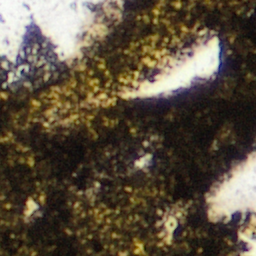cement_matrix: (0, 0, 255, 255), (119, 34, 221, 99), (161, 212, 178, 241), (91, 94, 110, 103), (136, 156, 148, 168), (26, 201, 36, 214)
gravel_crushed_stones: (0, 0, 122, 81), (120, 35, 220, 98), (208, 151, 255, 255), (162, 213, 177, 240), (92, 95, 109, 102), (137, 157, 147, 167), (27, 202, 35, 213)
